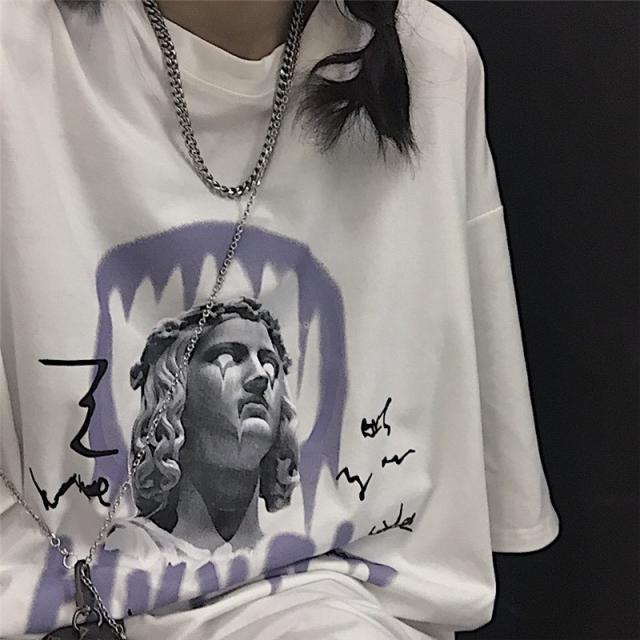Shirt: (1, 0, 562, 639)
